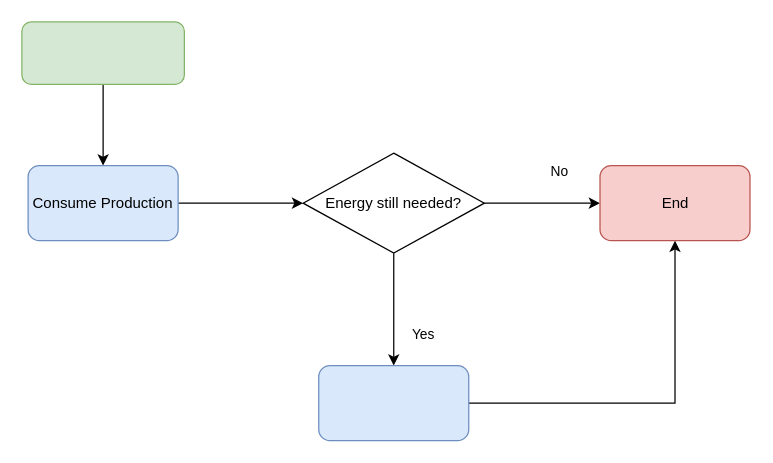
Some shapes in this 773 by 463 pixel diagram are drawn without their labels. The centre of each missing label's shape, as x and y in pixels:
"Fetch from Grid" goes at pixel 393 402.
"Start" goes at pixel 102 52.
